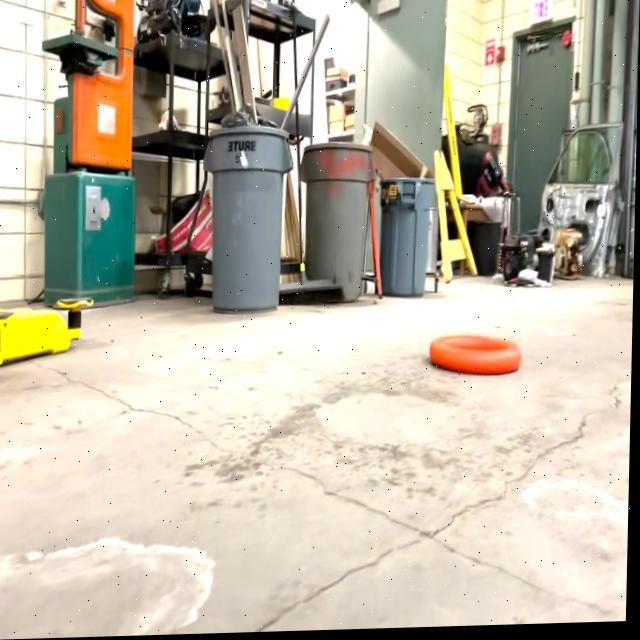note: (427, 337, 523, 380)
